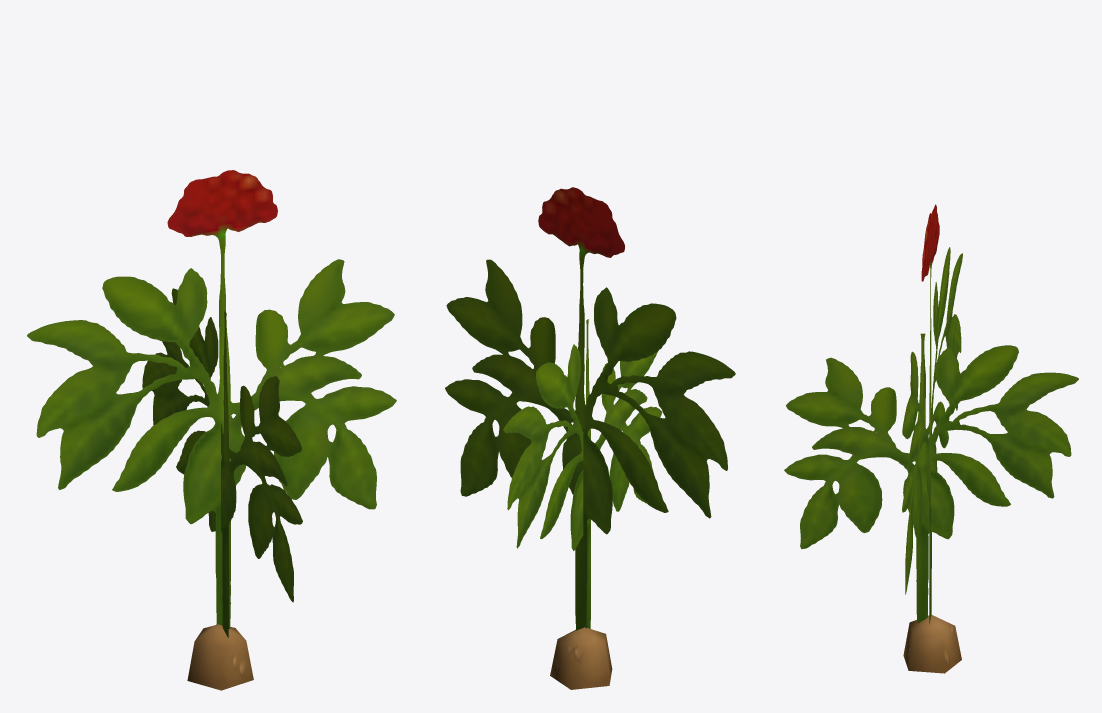
File: million_wildginseng.FBX
3 renders of one model, left to right at view 1: azimuth 30°, elevation 25°; view 2: azimuth 150°, elevation 25°; view 3: azimuth 270°, elevation 25°, orthographic. The views are drawn at different scales.
Visible parts, largest first — view 1: Object004; view 2: Object004; view 3: Object004.
Boxes of the visible parts, x1,y1,x2,y2 form: Object004: (27, 170, 396, 690); Object004: (445, 187, 735, 689); Object004: (784, 204, 1078, 673).
Bounding box in the file's own units: 16.79 × 28.44 × 14.29.
